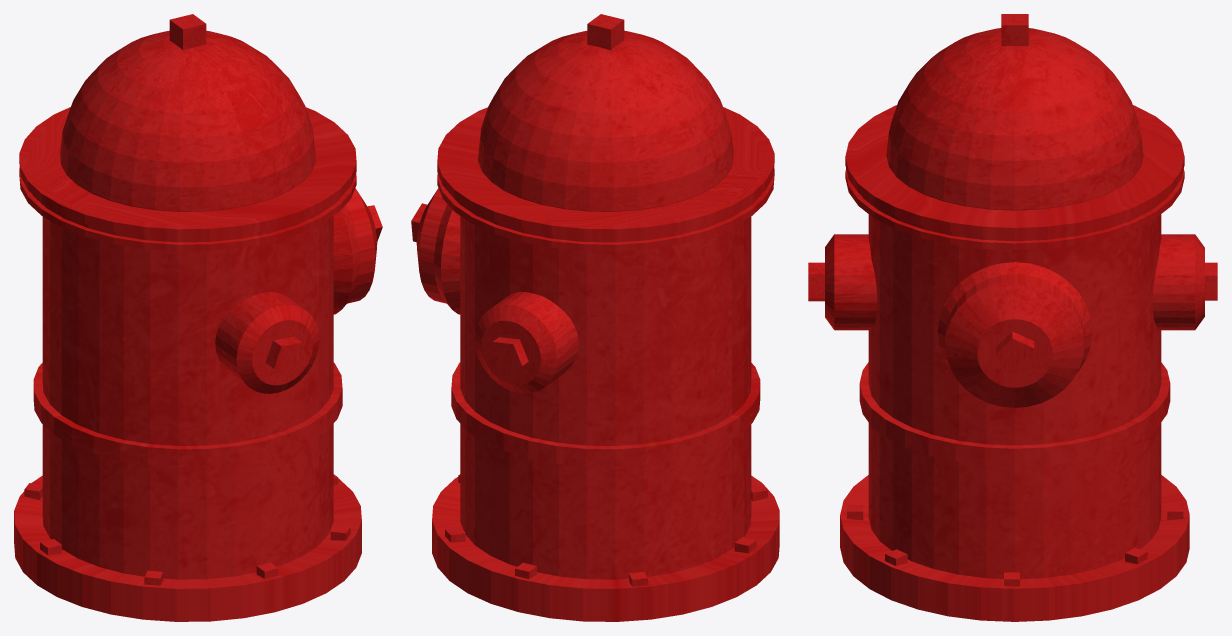
Rendered from fire_hydrant.glb.
The picture shows the model from 3 angles, left to right: view 1: azimuth 30°, elevation 25°; view 2: azimuth 150°, elevation 25°; view 3: azimuth 270°, elevation 25°; orthographic projection.
Parts seen in each view (by area): view 1: Cylinder; view 2: Cylinder; view 3: Cylinder.
Boxes of the visible parts, x1,y1,x2,y2 form: Cylinder: (14, 14, 382, 621); Cylinder: (411, 14, 779, 621); Cylinder: (808, 14, 1217, 621).
Size of the model in its own units: 0.5108 by 0.7651 by 0.5374.
1 material, 1 textured.
